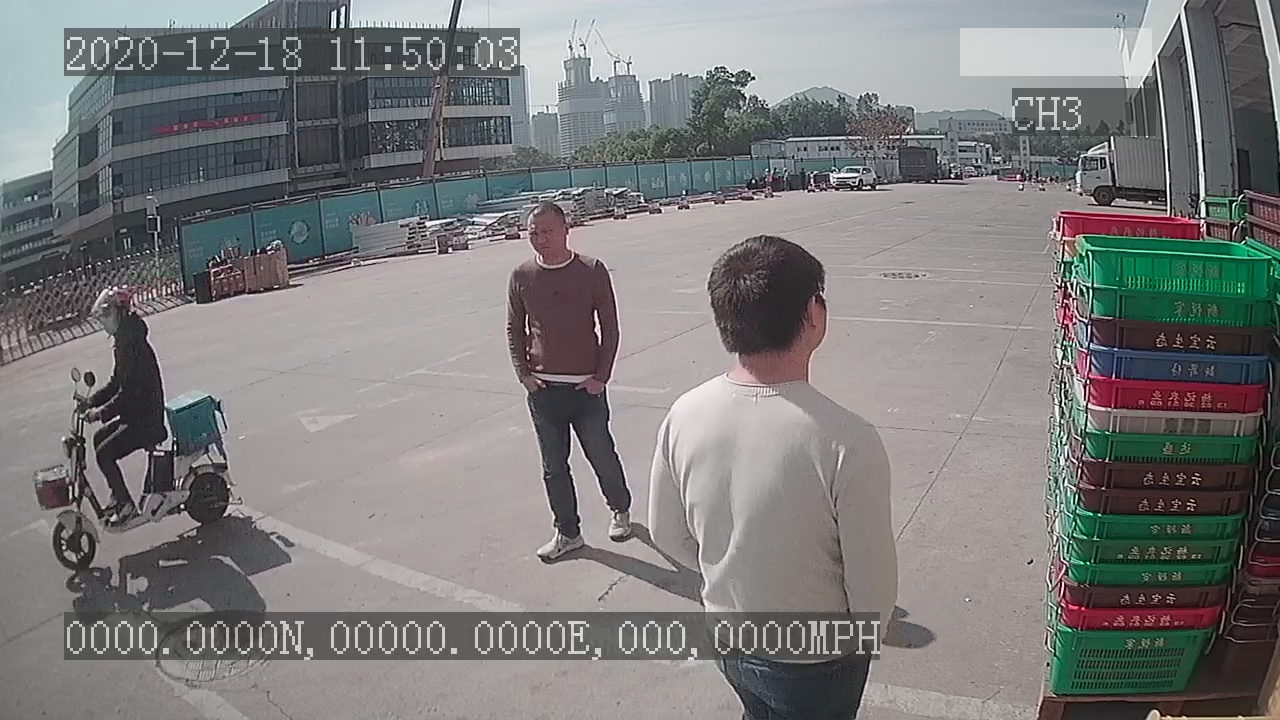person: (501, 197, 638, 567)
